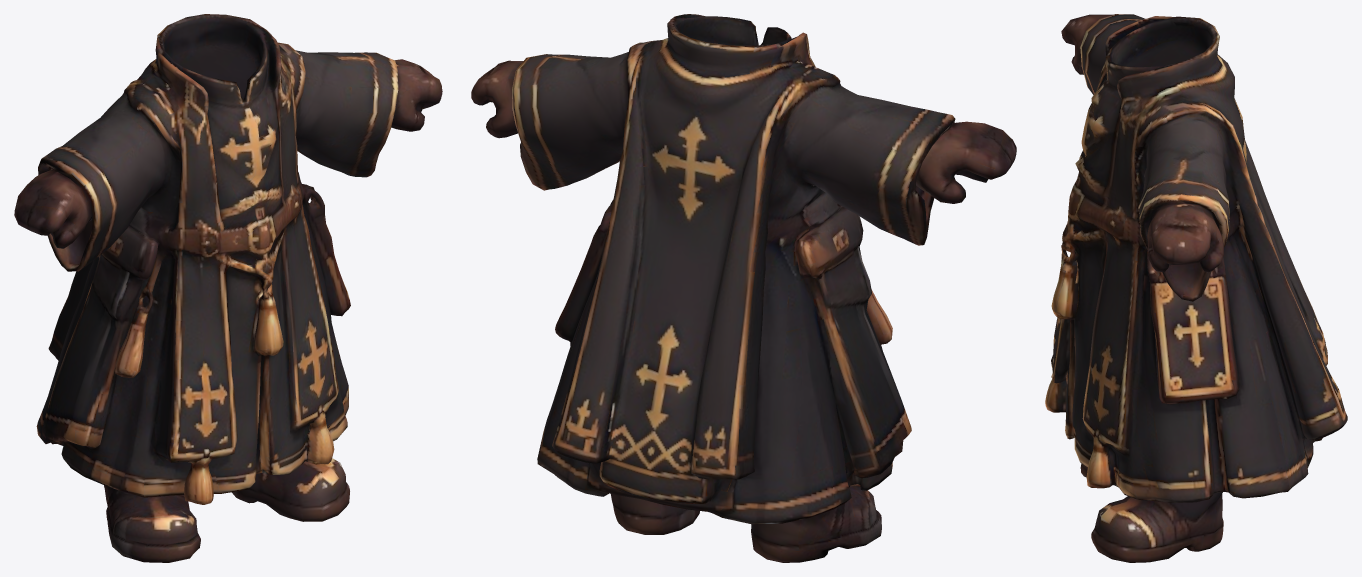
3 renders of one model, left to right at view 1: azimuth 30°, elevation 25°; view 2: azimuth 150°, elevation 25°; view 3: azimuth 270°, elevation 25°, orthographic. The views are drawn at different scales.
Visible parts, largest first — view 1: tripo_node_1beea373-3fbc-43cd-a303-d5ac5d4a11ab; view 2: tripo_node_1beea373-3fbc-43cd-a303-d5ac5d4a11ab; view 3: tripo_node_1beea373-3fbc-43cd-a303-d5ac5d4a11ab.
Part boxes in pixels (<box>): tripo_node_1beea373-3fbc-43cd-a303-d5ac5d4a11ab: <box>14,14,442,562</box>; tripo_node_1beea373-3fbc-43cd-a303-d5ac5d4a11ab: <box>471,14,1016,562</box>; tripo_node_1beea373-3fbc-43cd-a303-d5ac5d4a11ab: <box>1045,14,1347,562</box>.
Size of the model in its own units: 0.9785 by 0.9732 by 0.5612.
Materials: 1 (1 with a texture image).
